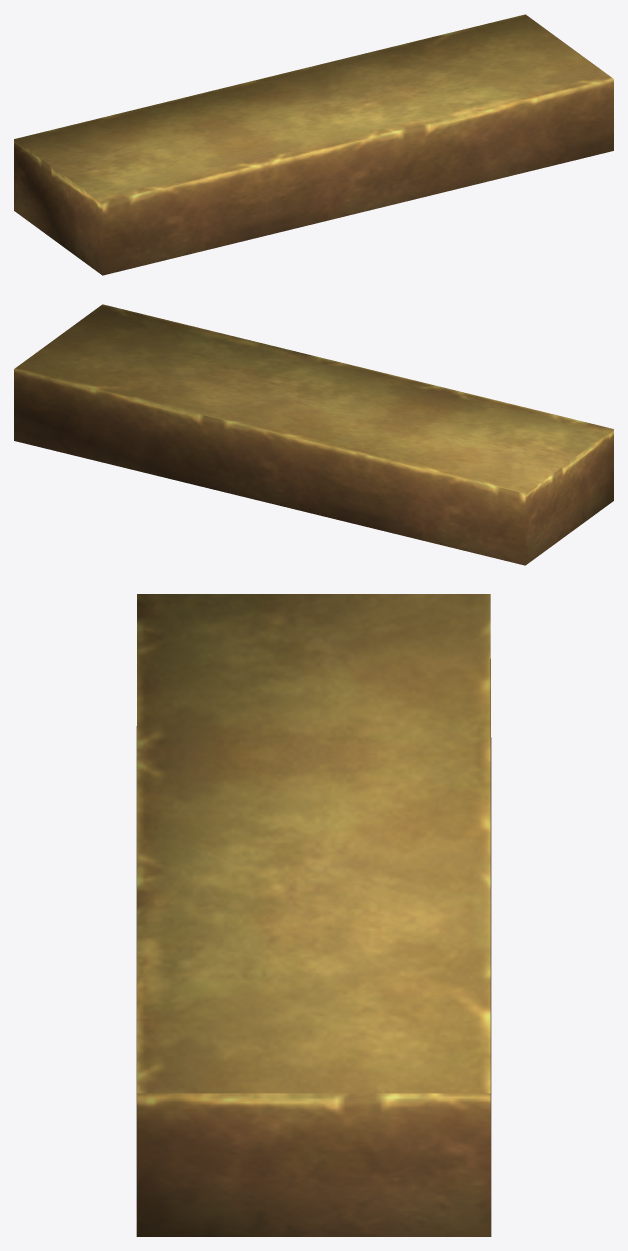
Rendered from G_hulan009.fbx.
3 views of the same model, one above another, from view 1: azimuth 30°, elevation 25°; view 2: azimuth 150°, elevation 25°; view 3: azimuth 270°, elevation 25° (orthographic). The views are drawn at different scales.
Visible parts, largest first — view 1: G_hulan009; view 2: G_hulan009; view 3: G_hulan009.
Boxes of the visible parts, x1,y1,x2,y2 form: G_hulan009: (14,14,613,275); G_hulan009: (14,304,613,565); G_hulan009: (136,594,491,1236).
Bounding box in the file's own units: 108 × 14.54 × 32.53.
